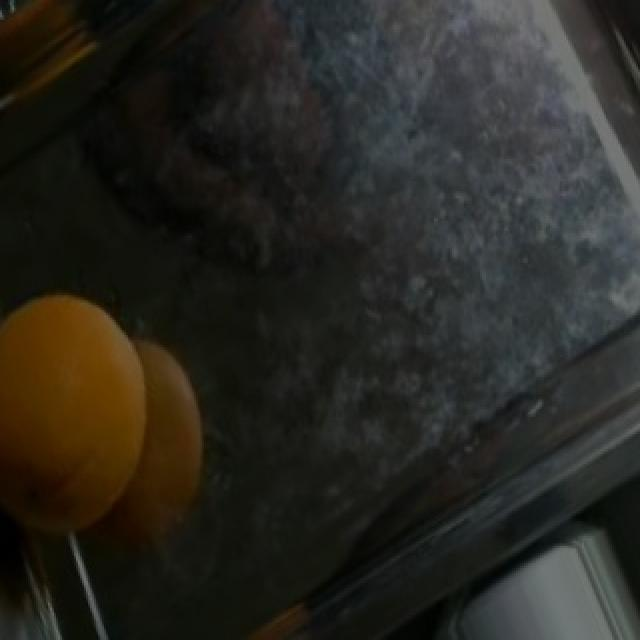Fruit: (0, 273, 172, 573)
